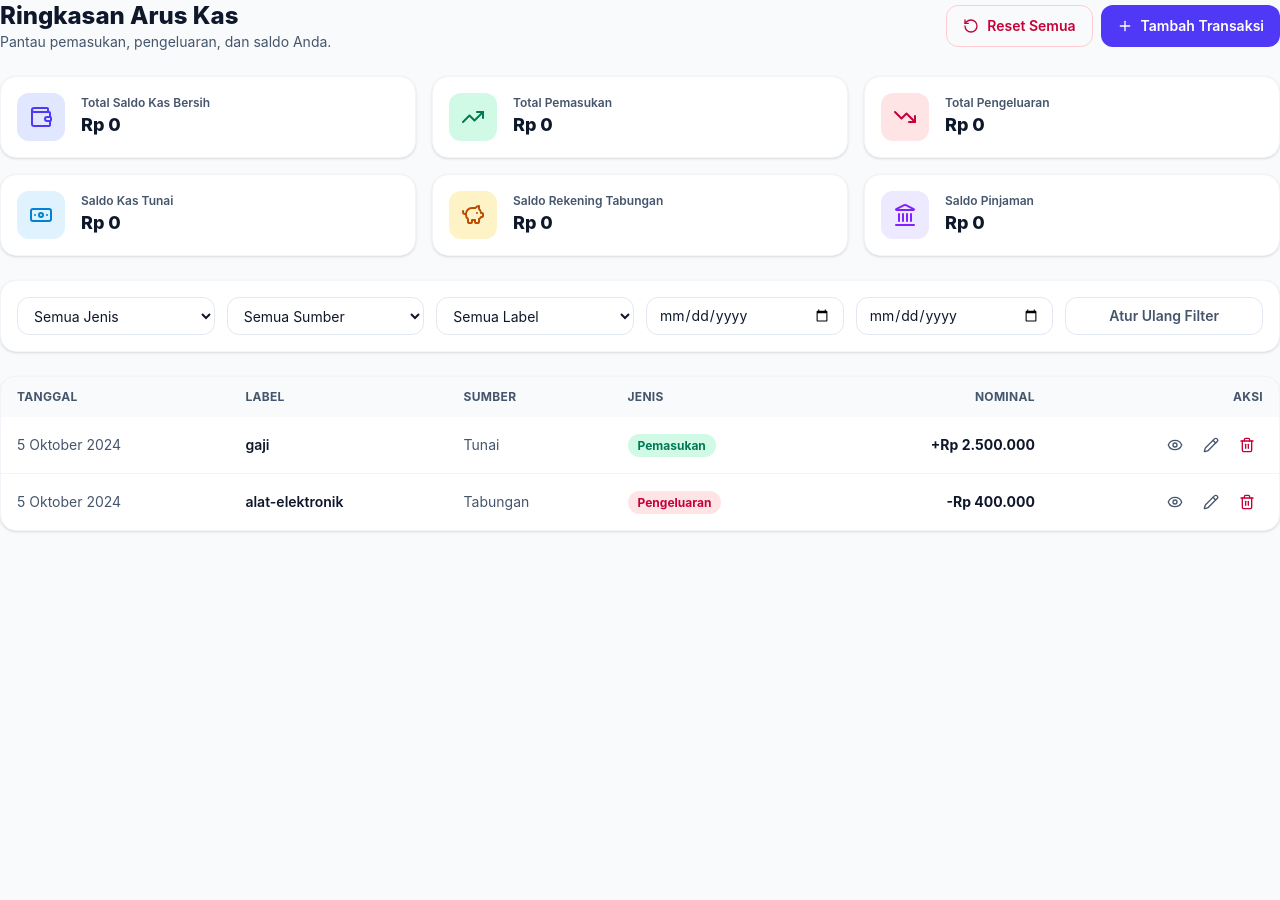
Test: HomePage › membuka modal ubah dari tabel dan memuat ulang setelah disimpan
Click the button with test id "edit-button" in the row of "alat-elektronik": (1211,502) [1195,486,1227,518]
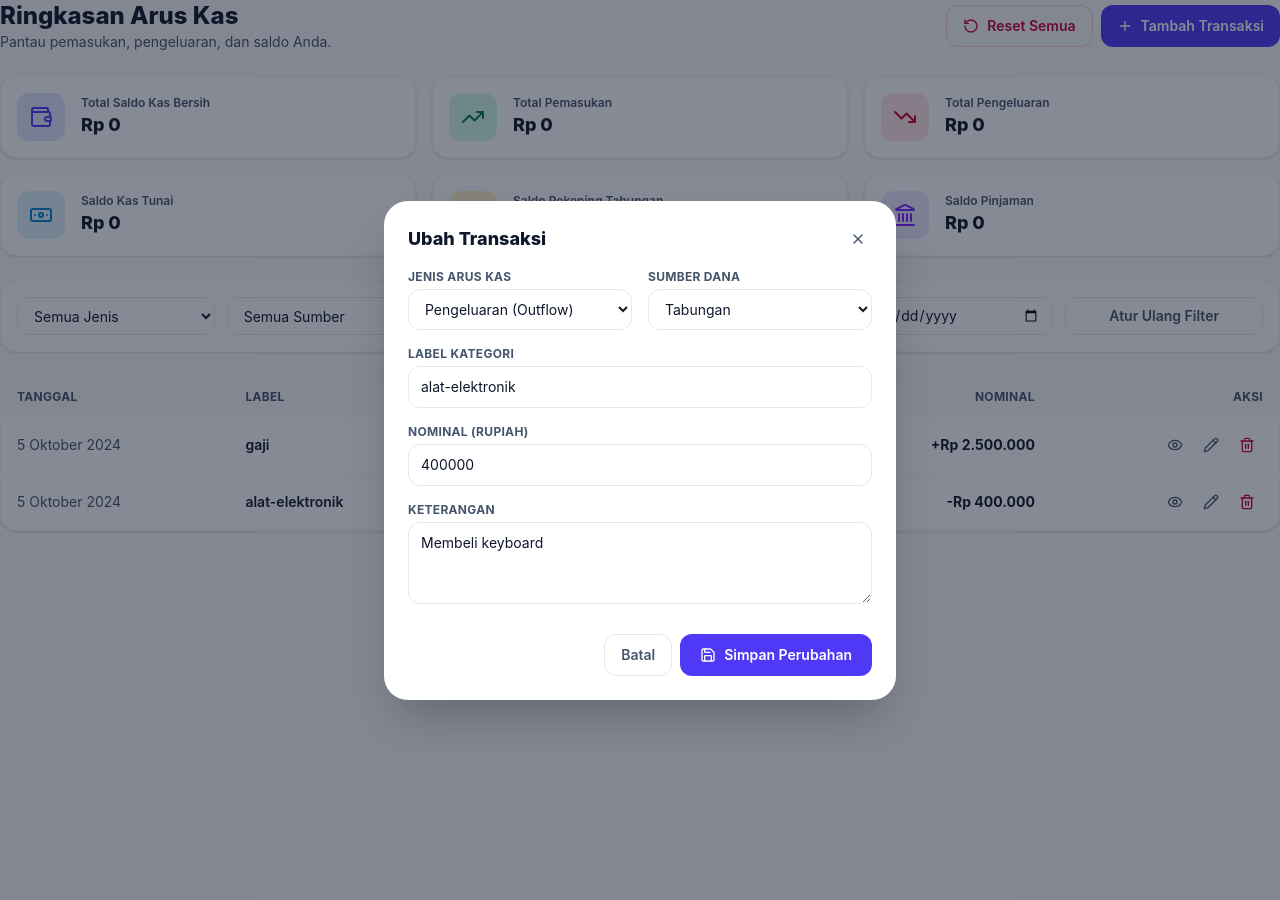
Now the element with test id "change-modal" is shown
Now the field with id "cf-label" holds "alat-elektronik", box [408,366,872,408]
